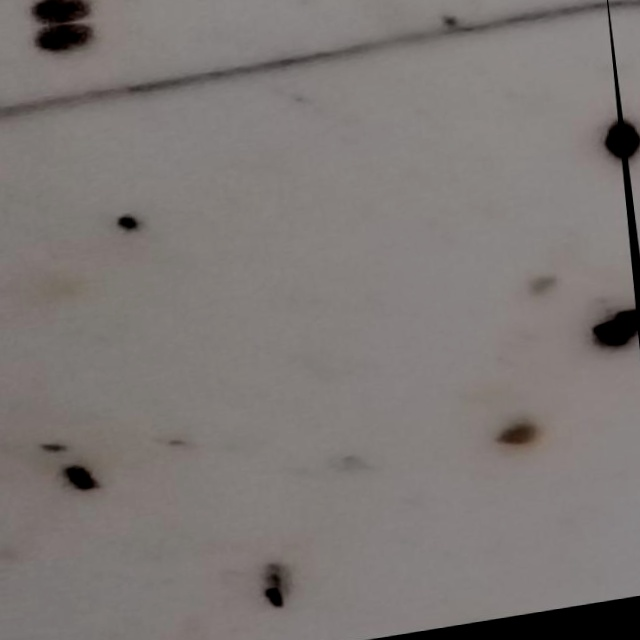varroa: (26, 20, 100, 60), (602, 126, 625, 171)
